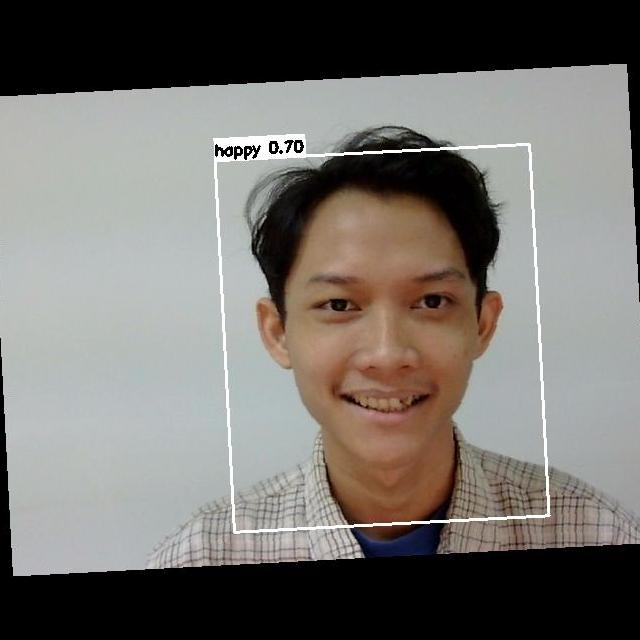Happy: (281, 239, 493, 431)
